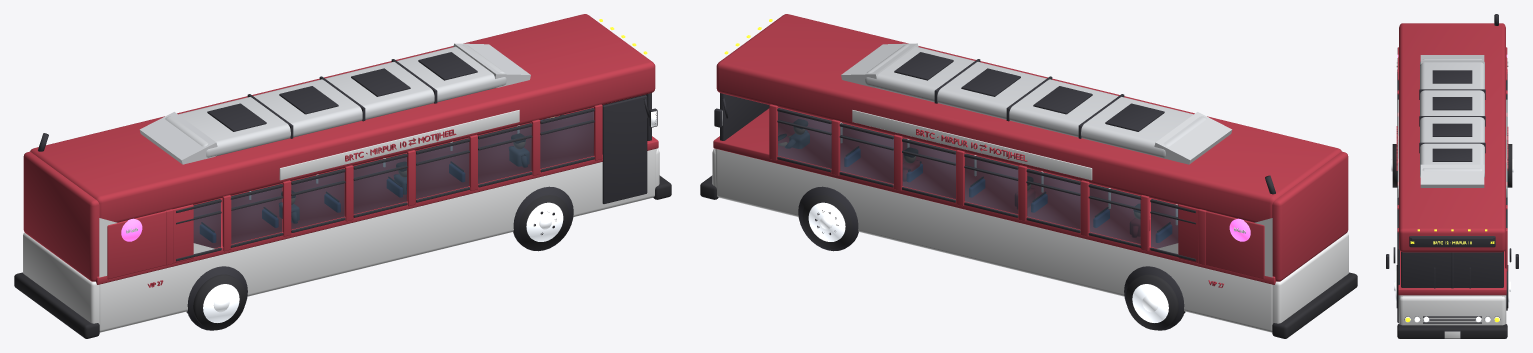
File: dhaka-bus.glb
3 views of the same model, side by side, from view 1: azimuth 30°, elevation 25°; view 2: azimuth 150°, elevation 25°; view 3: azimuth 270°, elevation 25° (orthographic). The views are drawn at different scales.
Parts seen in each view (by area): view 1: Bus_Upper_Red_Crown, Bus_Lower_White_Hull, Bus_Red_Beltline, Roof_AC_Main_Pod, Bus_Rear_Wall_Red, Front_Door_Frame, Bus_Rear_Quarter_Red_-1, Bus_Rear_Wall_White, Banner_Backplate_-1, WinGlass_-1_1, WinGlass_-1_3, WinGlass_-1_0 (+26 smaller); view 2: Bus_Upper_Red_Crown, Bus_Lower_White_Hull, Bus_Red_Beltline, Roof_AC_Main_Pod, Bus_Rear_Wall_Red, Bus_Rear_Quarter_Red_1, Bus_Rear_Wall_White, Banner_Backplate_1, WinGlass_1_1, WinGlass_1_3, WinGlass_1_0, WinGlass_1_4 (+26 smaller); view 3: Bus_Upper_Red_Crown, Roof_AC_Main_Pod, Windshield_Frame, Bus_Front_Apron_White, Front_Bumper, AC_Front_Cowl, Bus_Red_Beltline, Dest_LED_Board, AC_Louver_-2.2, AC_Louver_0.8, AC_Louver_2.2, AC_Louver_-0.7 (+12 smaller).
Part boxes in pixels (<box>): Bus_Upper_Red_Crown: <box>30,14,655,222</box>; Bus_Lower_White_Hull: <box>99,148,656,332</box>; Bus_Red_Beltline: <box>96,107,658,284</box>; Roof_AC_Main_Pod: <box>165,44,506,157</box>; Bus_Rear_Wall_Red: <box>23,151,99,281</box>; Front_Door_Frame: <box>602,95,647,203</box>; Bus_Rear_Quarter_Red_-1: <box>107,204,193,279</box>; Bus_Rear_Wall_White: <box>23,232,99,323</box>; Banner_Backplate_-1: <box>279,110,519,180</box>; WinGlass_-1_1: <box>478,126,531,184</box>; WinGlass_-1_3: <box>353,157,406,214</box>; WinGlass_-1_0: <box>540,111,593,168</box>; Bus_Upper_Red_Crown: <box>716,14,1341,222</box>; Bus_Lower_White_Hull: <box>715,148,1272,332</box>; Bus_Red_Beltline: <box>713,107,1275,284</box>; Roof_AC_Main_Pod: <box>865,44,1206,157</box>; Bus_Rear_Wall_Red: <box>1272,151,1348,281</box>; Bus_Rear_Quarter_Red_1: <box>1178,204,1264,279</box>; Bus_Rear_Wall_White: <box>1272,232,1348,323</box>; Banner_Backplate_1: <box>852,110,1092,180</box>; WinGlass_1_1: <box>840,126,893,184</box>; WinGlass_1_3: <box>965,157,1018,214</box>; WinGlass_1_0: <box>778,111,831,168</box>; WinGlass_1_4: <box>1027,172,1080,229</box>; Bus_Upper_Red_Crown: <box>1399,23,1505,252</box>; Roof_AC_Main_Pod: <box>1420,58,1484,177</box>; Windshield_Frame: <box>1401,252,1503,287</box>; Bus_Front_Apron_White: <box>1399,296,1505,325</box>; Front_Bumper: <box>1397,324,1507,338</box>; AC_Front_Cowl: <box>1420,164,1484,187</box>; Bus_Red_Beltline: <box>1398,251,1506,295</box>; Dest_LED_Board: <box>1411,238,1493,246</box>; AC_Louver_-2.2: <box>1432,70,1472,83</box>; AC_Louver_0.8: <box>1432,123,1472,136</box>; AC_Louver_2.2: <box>1432,148,1472,161</box>; AC_Louver_-0.7: <box>1432,97,1472,110</box>.
Bounding box in the file's own units: 12.3 × 3.49 × 3.16.
